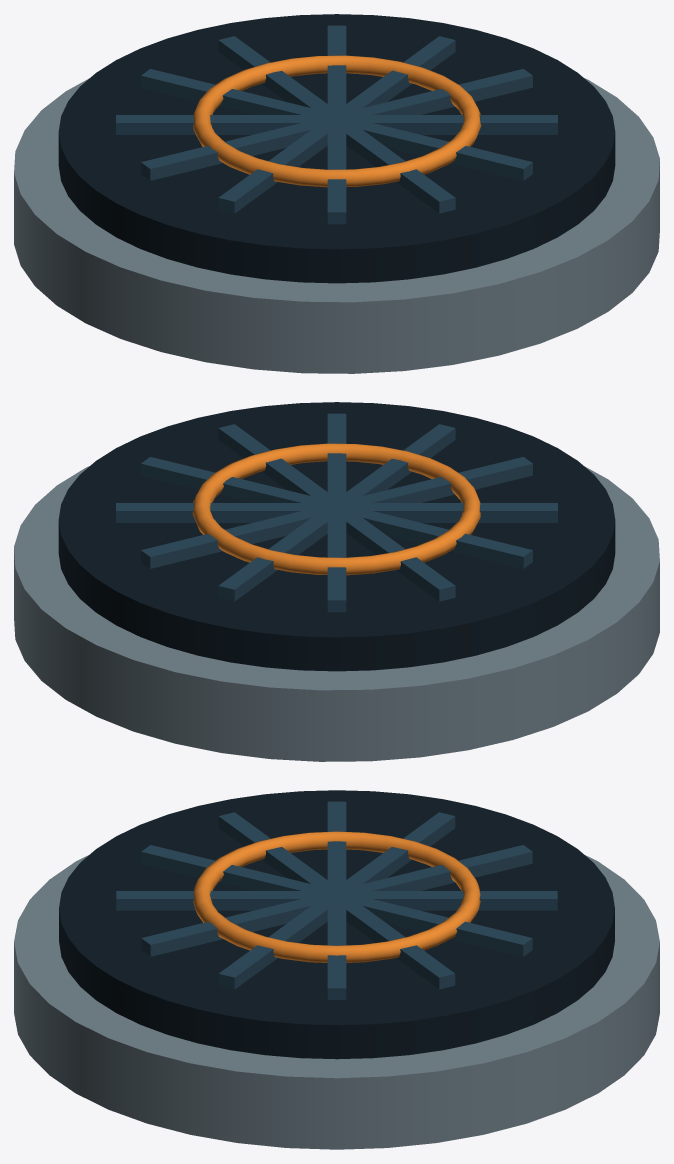
File: manhole.gltf
The picture shows the model from 3 angles, top to bottom: view 1: azimuth 30°, elevation 25°; view 2: azimuth 150°, elevation 25°; view 3: azimuth 270°, elevation 25°; orthographic projection.
Visible parts, largest first — view 1: LidPlate, ManholeRing, InspectRing, LidRib2, LidRib3, LidRib1, LidRib0, LidRib4, LidRib5, LidRib6, LidRib10, LidRib9 (+3 smaller); view 2: LidPlate, ManholeRing, InspectRing, LidRib4, LidRib5, LidRib3, LidRib2, LidRib0, LidRib1, LidRib8, LidRib6, LidRib7 (+3 smaller); view 3: LidPlate, ManholeRing, InspectRing, LidRib0, LidRib1, LidRib5, LidRib4, LidRib2, LidRib3, LidRib10, LidRib7, LidRib11 (+3 smaller).
Boxes of the visible parts, x1,y1,x2,y2 form: LidPlate: (58,14,615,283); ManholeRing: (14,78,659,373); InspectRing: (193,55,481,187); LidRib2: (116,115,557,134); LidRib3: (141,69,532,180); LidRib1: (141,69,532,180); LidRib0: (218,36,455,213); LidRib4: (218,36,455,213); LidRib5: (327,25,346,224); LidRib6: (222,36,451,201); LidRib10: (221,37,453,200); LidRib9: (144,71,532,167); LidPlate: (58,402,615,671); ManholeRing: (14,466,659,761); InspectRing: (192,443,480,575); LidRib4: (116,503,557,522); LidRib5: (141,457,532,568); LidRib3: (141,457,532,568); LidRib2: (218,424,455,601); LidRib0: (218,424,455,601); LidRib1: (327,413,346,612); LidRib8: (221,424,450,588); LidRib6: (221,425,453,588); LidRib7: (327,414,346,598); LidPlate: (59,790,614,1059); ManholeRing: (14,855,659,1149); InspectRing: (193,831,480,962); LidRib0: (116,891,557,910); LidRib1: (141,845,532,956); LidRib5: (141,845,532,956); LidRib4: (218,812,455,989); LidRib2: (218,812,455,989); LidRib3: (327,801,346,999); LidRib10: (223,813,448,976); LidRib7: (142,847,531,944); LidRib11: (142,845,529,944).
Bounding box in the file's own units: 3.44 × 0.73 × 3.44.
